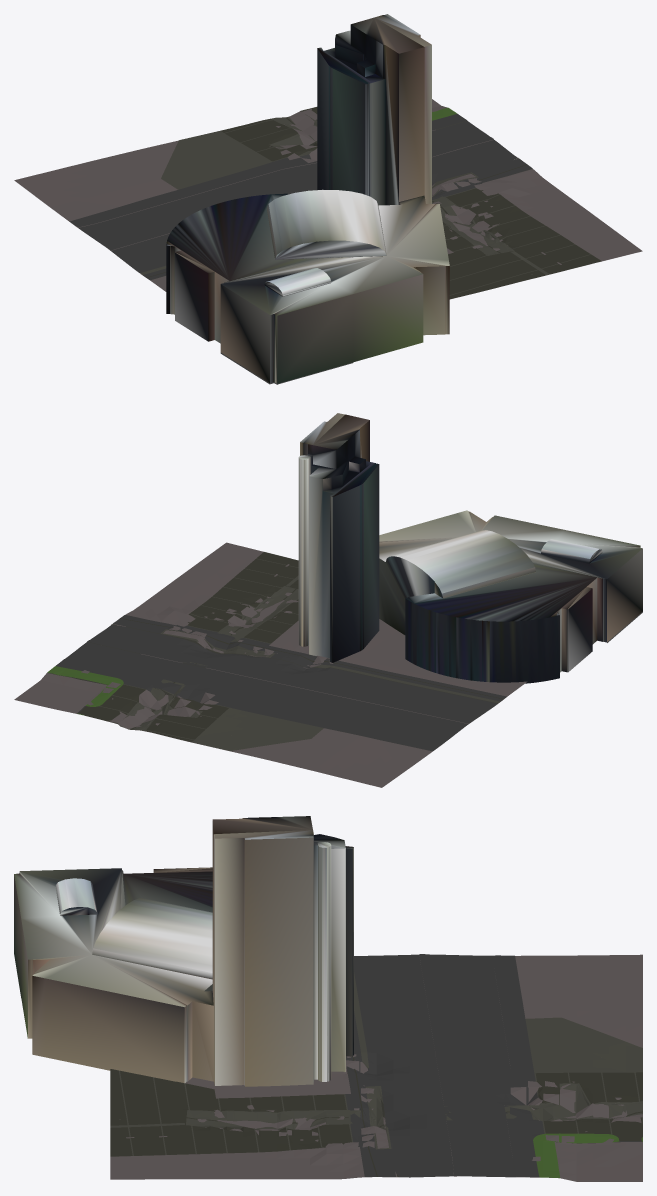
3 views of the same model, one above another, from view 1: azimuth 30°, elevation 25°; view 2: azimuth 150°, elevation 25°; view 3: azimuth 270°, elevation 25° (orthographic). The views are drawn at different scales.
Parts seen in each view (by area): view 1: c_m17_p04; view 2: c_m17_p04; view 3: c_m17_p04.
Part boxes in pixels (bbox=[...]): c_m17_p04: bbox=[14, 14, 642, 384]; c_m17_p04: bbox=[14, 413, 642, 787]; c_m17_p04: bbox=[14, 816, 642, 1181].
Size of the model in its own units: 135 by 69.03 by 151.
